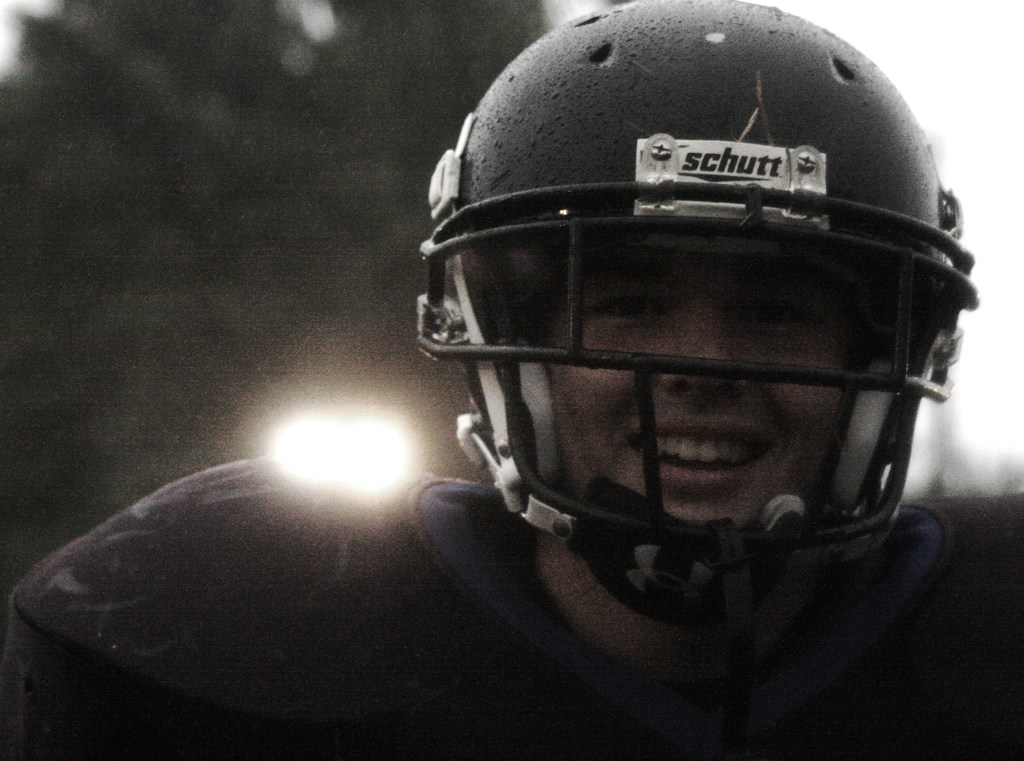Person: (1, 0, 1024, 760)
